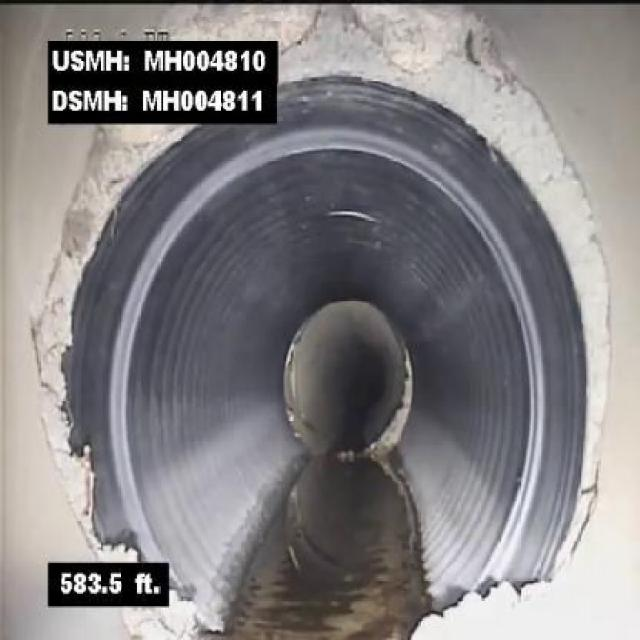Debris: (392, 571, 577, 638)
Joint offset: (284, 0, 624, 157), (19, 131, 166, 409), (497, 164, 621, 418)
